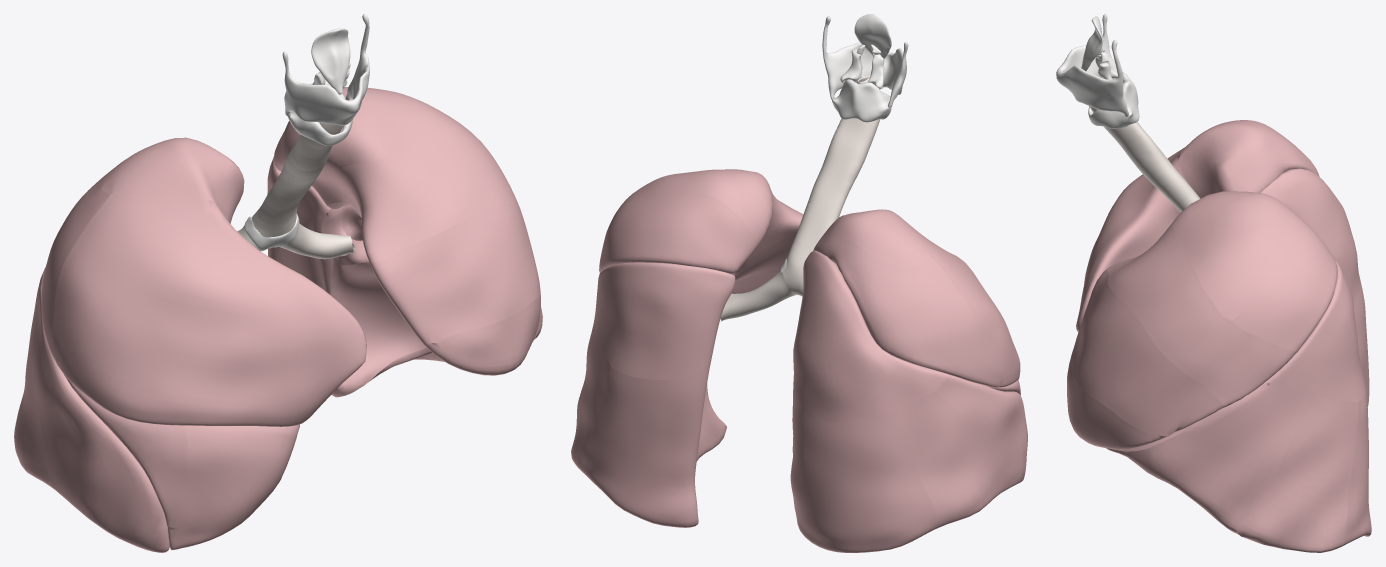
Rendered from VHF_lungs.glb.
3 views of the same model, side by side, from view 1: azimuth 30°, elevation 25°; view 2: azimuth 150°, elevation 25°; view 3: azimuth 270°, elevation 25° (orthographic). The views are drawn at different scales.
Parts seen in each view (by area): view 1: VHF_lungs_right_anterior_bronchopulmonary_segment, VHF_lungs_left_lingula_superior_bronchopulmonary_segment, VHF_lungs_right_anterior_basal_bronchopulmonary_segment, VHF_lungs_left_anterior_bronchopulmonary_segment, VHF_lungs_right_medial_bronchopulmonary_segment, VHF_lungs_right_apical_bronchopulmonary_segment, VHF_lungs_left_apical_bronchopulmonary_segment, VHF_lungs_left_medial_basal_bronchopulmonary_segment, VHF_lungs_right_lateral_bronchopulmonary_segment, VHF_lungs_left_lingula_inferior_bronchopulmonary_segment, VHF_lungs_trachea, VHF_lungs_thyroid_cartilage (+11 smaller); view 2: VHF_lungs_right_posterior_basal_bronchopulmonary_segment, VHF_lungs_left_posterior_basal_bronchopulmonary_segment, VHF_lungs_right_superior_bronchopulmonary_segment, VHF_lungs_left_superior_bronchopulmonary_segment, VHF_lungs_right_posterior_bronchopulmonary_segment, VHF_lungs_left_posterior_bronchopulmonary_segment, VHF_lungs_right_lateral_basal_bronchopulmonary_segment, VHF_lungs_trachea, VHF_lungs_right_anterior_basal_bronchopulmonary_segment, VHF_lungs_left_apical_bronchopulmonary_segment, VHF_lungs_right_anterior_bronchopulmonary_segment, VHF_lungs_right_apical_bronchopulmonary_segment (+8 smaller); view 3: VHF_lungs_left_anterior_bronchopulmonary_segment, VHF_lungs_left_anterior_basal_bronchopulmonary_segment, VHF_lungs_left_lingula_superior_bronchopulmonary_segment, VHF_lungs_left_lateral_basal_bronchopulmulmonary_segment, VHF_lungs_left_apical_bronchopulmonary_segment, VHF_lungs_left_posterior_bronchopulmonary_segment, VHF_lungs_left_superior_bronchopulmonary_segment, VHF_lungs_right_anterior_bronchopulmonary_segment, VHF_lungs_right_apical_bronchopulmonary_segment, VHF_lungs_right_superior_bronchopulmonary_segment, VHF_lungs_left_lingula_inferior_bronchopulmonary_segment, VHF_lungs_thyroid_cartilage (+6 smaller).
Part boxes in pixels (left/top/right/bottom): VHF_lungs_right_anterior_bronchopulmonary_segment: left=53, top=194, right=366, bottom=426; VHF_lungs_left_lingula_superior_bronchopulmonary_segment: left=370, top=203, right=540, bottom=345; VHF_lungs_right_anterior_basal_bronchopulmonary_segment: left=32, top=298, right=169, bottom=552; VHF_lungs_left_anterior_bronchopulmonary_segment: left=335, top=136, right=519, bottom=263; VHF_lungs_right_medial_bronchopulmonary_segment: left=167, top=424, right=299, bottom=550; VHF_lungs_right_apical_bronchopulmonary_segment: left=100, top=137, right=244, bottom=223; VHF_lungs_left_apical_bronchopulmonary_segment: left=284, top=87, right=480, bottom=202; VHF_lungs_left_medial_basal_bronchopulmonary_segment: left=330, top=257, right=540, bottom=393; VHF_lungs_right_lateral_bronchopulmonary_segment: left=63, top=374, right=187, bottom=527; VHF_lungs_left_lingula_inferior_bronchopulmonary_segment: left=425, top=296, right=540, bottom=375; VHF_lungs_trachea: left=252, top=122, right=342, bottom=237; VHF_lungs_thyroid_cartilage: left=282, top=14, right=369, bottom=125; VHF_lungs_right_posterior_basal_bronchopulmonary_segment: left=790, top=393, right=936, bottom=552; VHF_lungs_left_posterior_basal_bronchopulmonary_segment: left=577, top=355, right=726, bottom=527; VHF_lungs_right_superior_bronchopulmonary_segment: left=793, top=250, right=947, bottom=422; VHF_lungs_left_superior_bronchopulmonary_segment: left=596, top=262, right=735, bottom=379; VHF_lungs_right_posterior_bronchopulmonary_segment: left=813, top=233, right=998, bottom=387; VHF_lungs_left_posterior_bronchopulmonary_segment: left=600, top=192, right=757, bottom=273; VHF_lungs_right_lateral_basal_bronchopulmonary_segment: left=901, top=391, right=1000, bottom=529; VHF_lungs_trachea: left=782, top=75, right=879, bottom=295; VHF_lungs_right_anterior_basal_bronchopulmonary_segment: left=936, top=374, right=1027, bottom=493; VHF_lungs_left_apical_bronchopulmonary_segment: left=621, top=169, right=772, bottom=245; VHF_lungs_right_anterior_bronchopulmonary_segment: left=921, top=234, right=1020, bottom=387; VHF_lungs_right_apical_bronchopulmonary_segment: left=820, top=209, right=931, bottom=267; VHF_lungs_left_anterior_bronchopulmonary_segment: left=1107, top=224, right=1297, bottom=406; VHF_lungs_left_anterior_basal_bronchopulmonary_segment: left=1106, top=383, right=1311, bottom=535; VHF_lungs_left_lingula_superior_bronchopulmonary_segment: left=1071, top=268, right=1226, bottom=436; VHF_lungs_left_lateral_basal_bronchopulmulmonary_segment: left=1236, top=395, right=1358, bottom=552; VHF_lungs_left_apical_bronchopulmonary_segment: left=1172, top=191, right=1278, bottom=320; VHF_lungs_left_posterior_bronchopulmonary_segment: left=1231, top=200, right=1337, bottom=351; VHF_lungs_left_superior_bronchopulmonary_segment: left=1264, top=261, right=1365, bottom=401; VHF_lungs_right_anterior_bronchopulmonary_segment: left=1076, top=147, right=1189, bottom=331; VHF_lungs_right_apical_bronchopulmonary_segment: left=1179, top=120, right=1282, bottom=198; VHF_lungs_right_superior_bronchopulmonary_segment: left=1260, top=168, right=1360, bottom=306; VHF_lungs_left_lingula_inferior_bronchopulmonary_segment: left=1067, top=356, right=1167, bottom=449; VHF_lungs_thyroid_cartilage: left=1056, top=14, right=1128, bottom=116.
Bounding box in the file's own units: 3.23 × 3.43 × 2.07.
